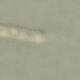ship: (0, 12, 51, 52)
